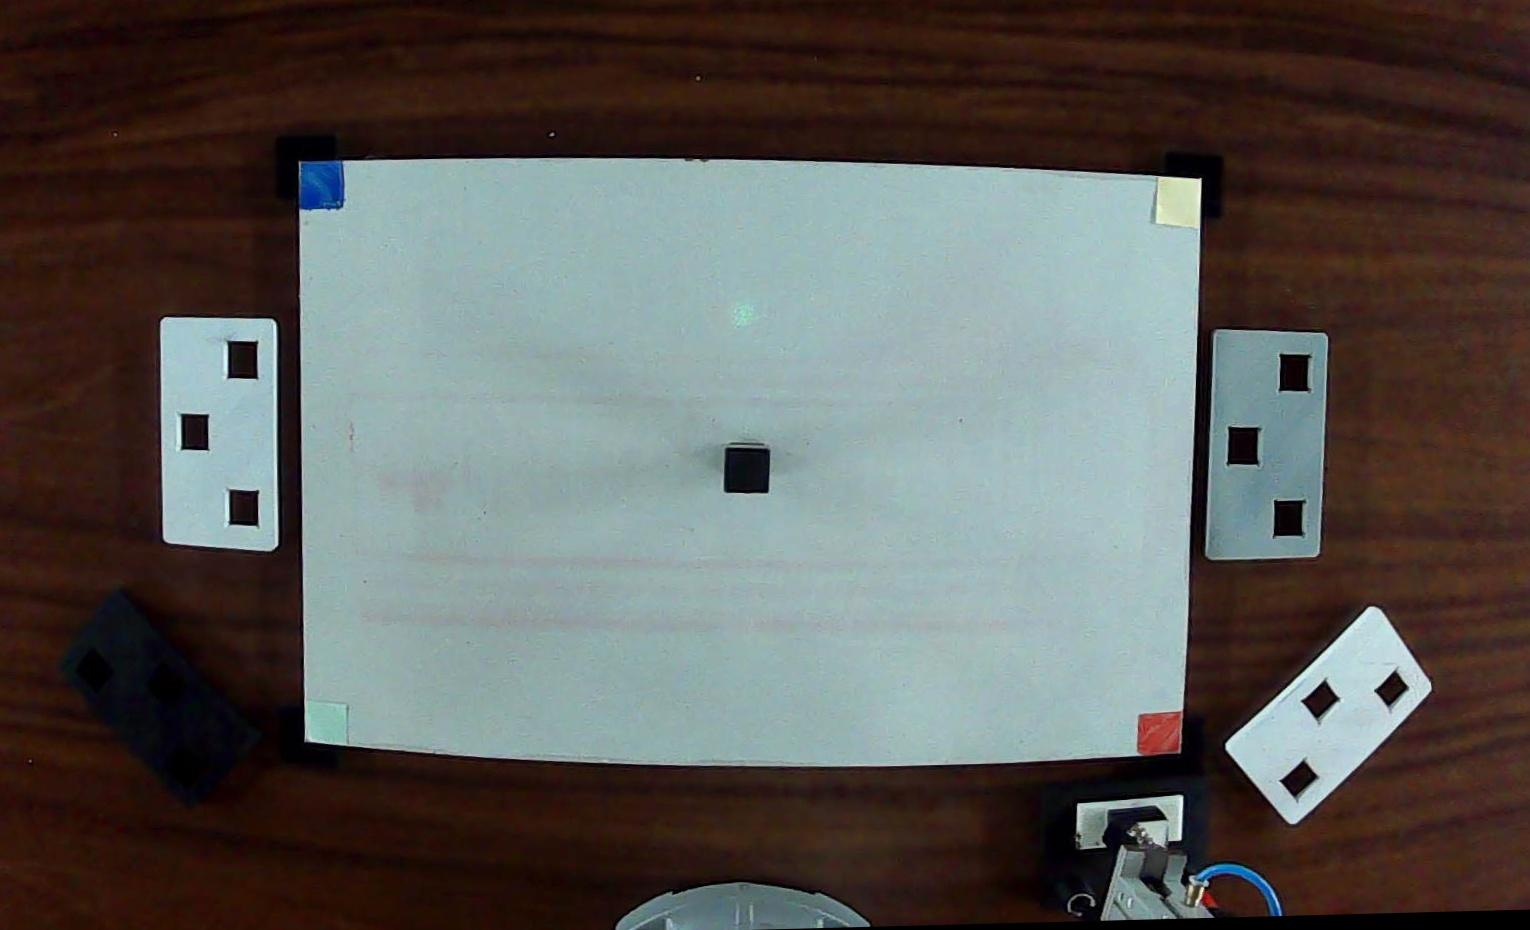peca_preta: (725, 449, 769, 493)
